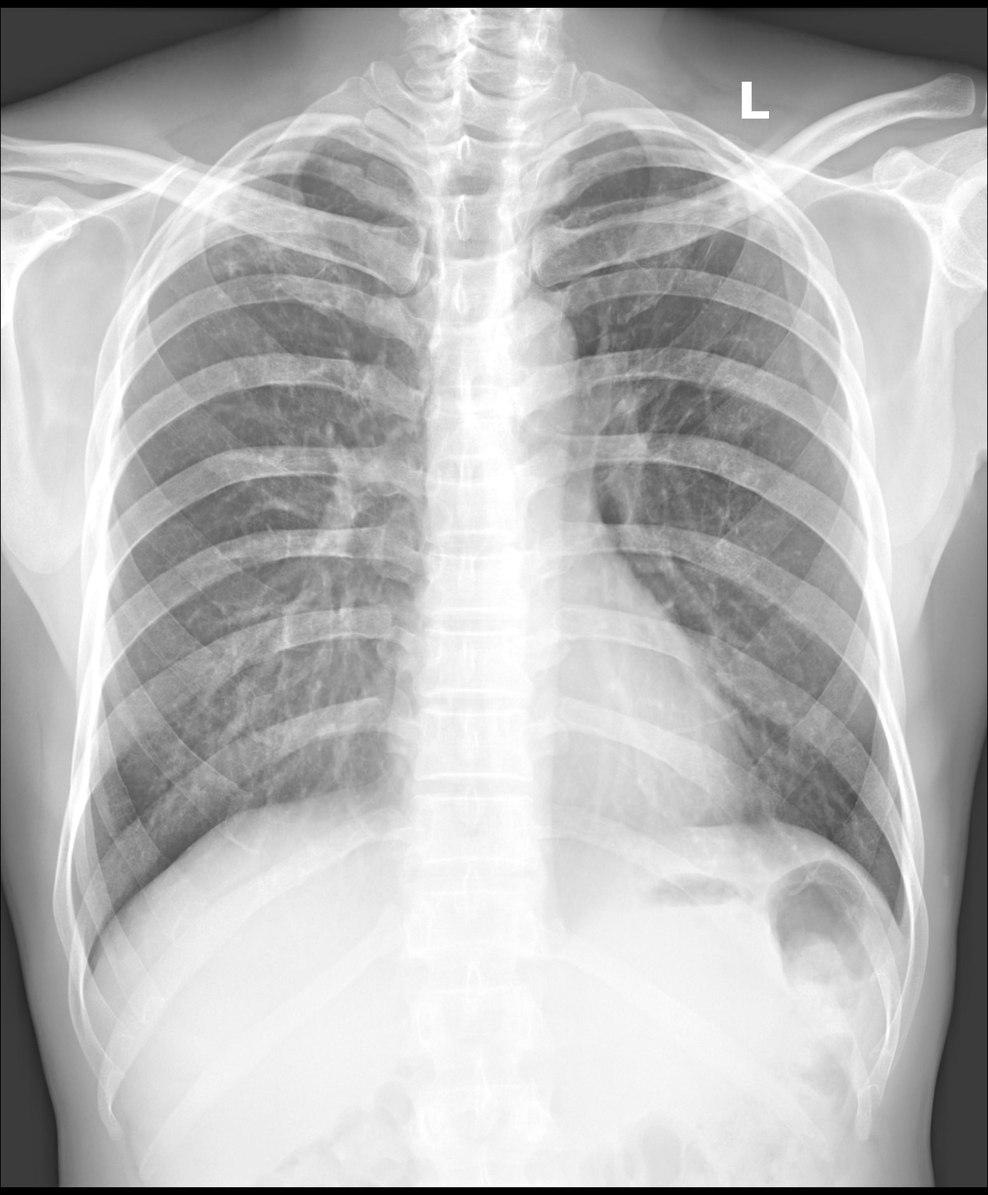Pleural thickening: (692, 140, 796, 238), (244, 139, 368, 168)
Pulmonary fibrosis: (199, 198, 370, 296), (674, 212, 734, 291), (697, 294, 767, 357)
